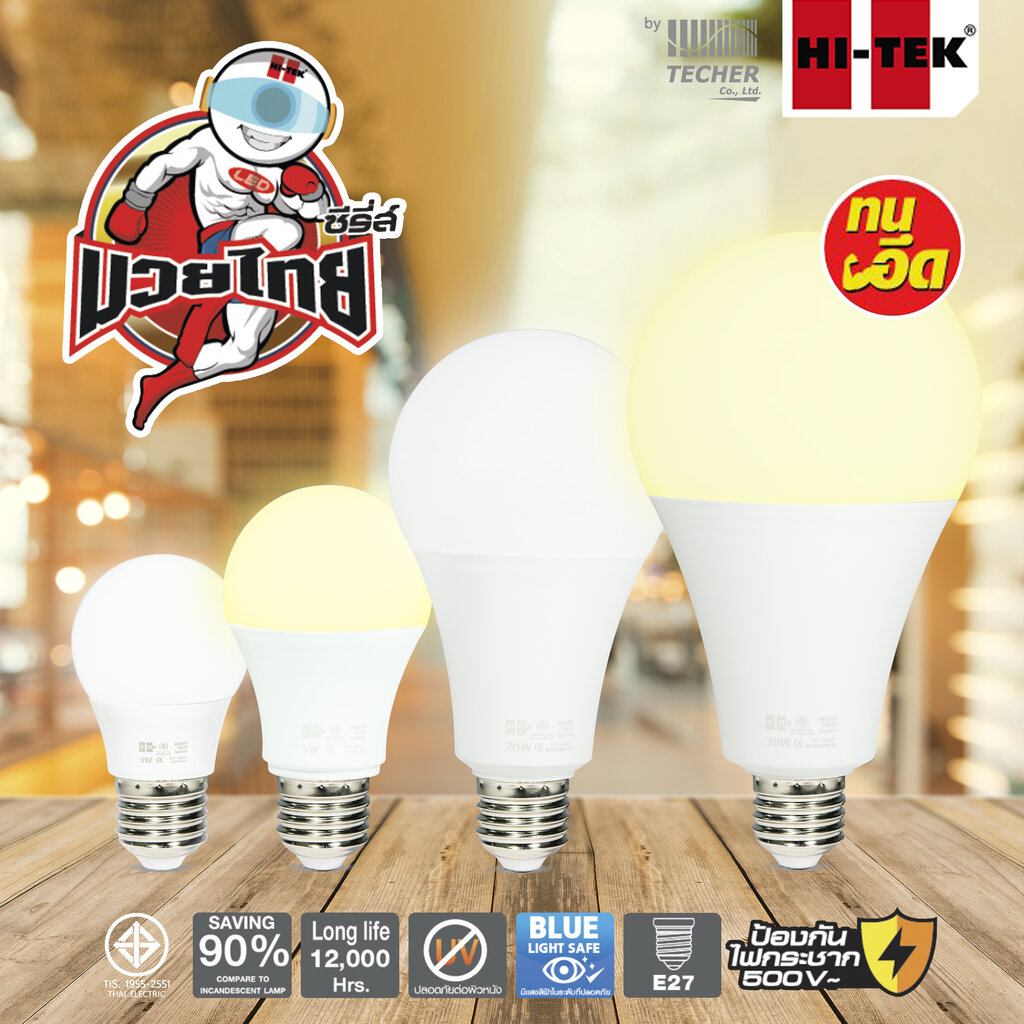Light_bulb: (608, 214, 996, 883), (389, 320, 668, 885), (218, 480, 432, 878), (67, 548, 262, 880)
